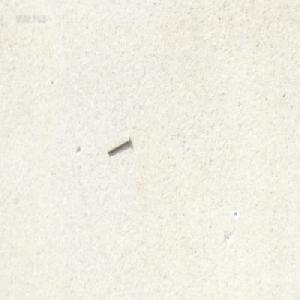Bolt: (106, 136, 130, 155)
